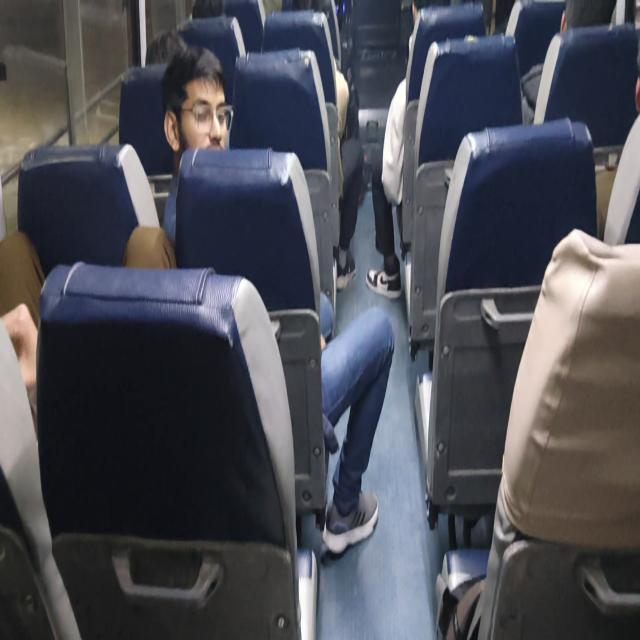person: (166, 72, 240, 168), (142, 29, 204, 82), (566, 0, 612, 49), (274, 0, 326, 38), (400, 0, 445, 36), (192, 0, 238, 34)
